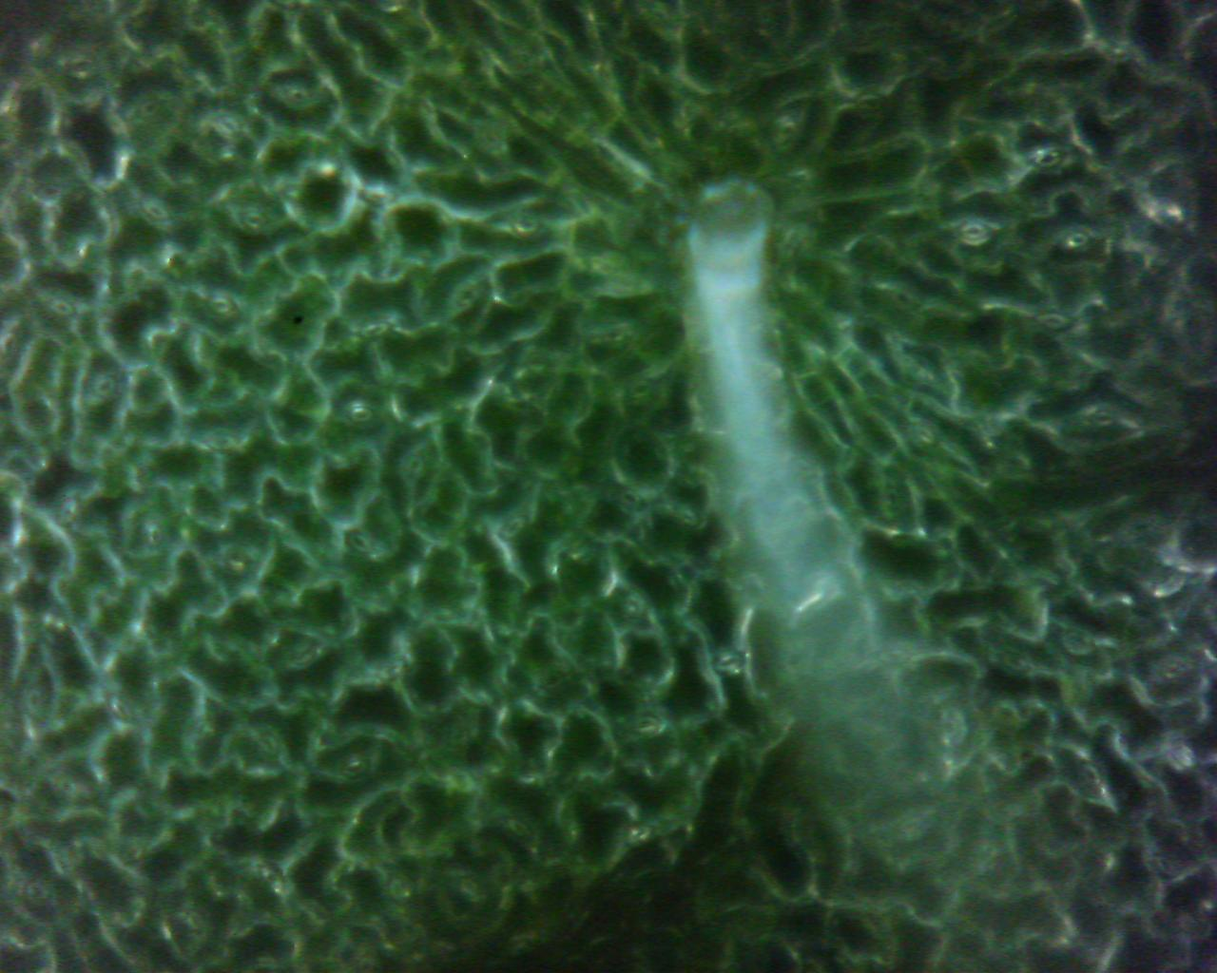stomata: (944, 708, 977, 749), (360, 178, 398, 211), (954, 218, 995, 246), (508, 213, 544, 243), (1033, 310, 1075, 335), (280, 82, 318, 109), (1028, 146, 1067, 171), (628, 711, 664, 738), (204, 429, 241, 455), (775, 120, 804, 153), (357, 315, 393, 341), (237, 208, 271, 235), (1059, 227, 1094, 253), (140, 200, 173, 227), (625, 378, 659, 404), (34, 180, 70, 204), (879, 647, 913, 672), (213, 115, 246, 140), (204, 295, 238, 319), (22, 686, 50, 715), (1158, 656, 1188, 683), (854, 89, 886, 114), (998, 651, 1030, 676), (714, 650, 744, 676), (893, 815, 925, 839), (386, 871, 409, 904), (56, 496, 79, 529), (1151, 853, 1181, 878), (538, 668, 569, 692), (347, 405, 379, 428), (624, 592, 650, 620), (108, 693, 133, 722), (1064, 630, 1094, 654), (1079, 759, 1100, 792), (1098, 38, 1129, 60), (340, 759, 371, 781), (346, 531, 374, 555), (1085, 409, 1118, 429), (48, 296, 76, 319), (476, 127, 503, 150), (500, 517, 527, 540), (403, 451, 424, 480), (23, 881, 53, 901), (184, 907, 206, 934), (256, 734, 280, 758), (260, 865, 282, 891), (1170, 747, 1195, 769), (458, 876, 484, 897), (455, 283, 479, 305), (508, 817, 533, 838), (913, 425, 936, 446), (98, 373, 118, 397), (680, 506, 702, 526), (290, 647, 317, 663), (146, 524, 164, 548), (141, 100, 160, 122)
